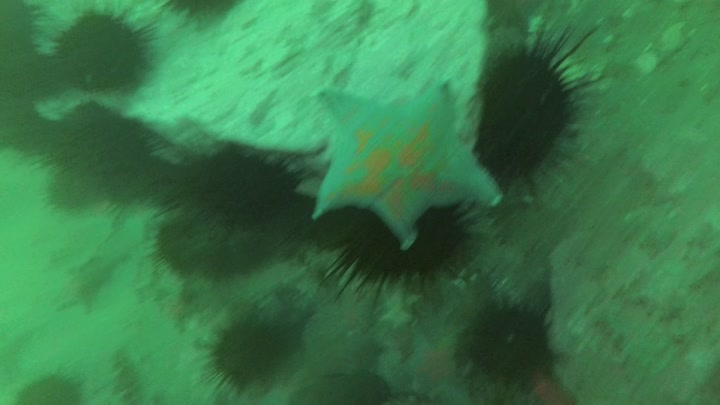echinus: (476, 18, 613, 201), (313, 205, 482, 310), (164, 146, 307, 232), (50, 7, 169, 93), (32, 100, 166, 176), (460, 297, 563, 393), (199, 311, 305, 399), (146, 217, 226, 279), (98, 157, 172, 222), (216, 220, 281, 282), (1, 41, 60, 100), (37, 169, 105, 214), (1, 89, 45, 155), (15, 371, 86, 405), (1, 1, 45, 55), (158, 1, 252, 22)
starfish: (310, 75, 508, 254), (52, 250, 131, 316)
